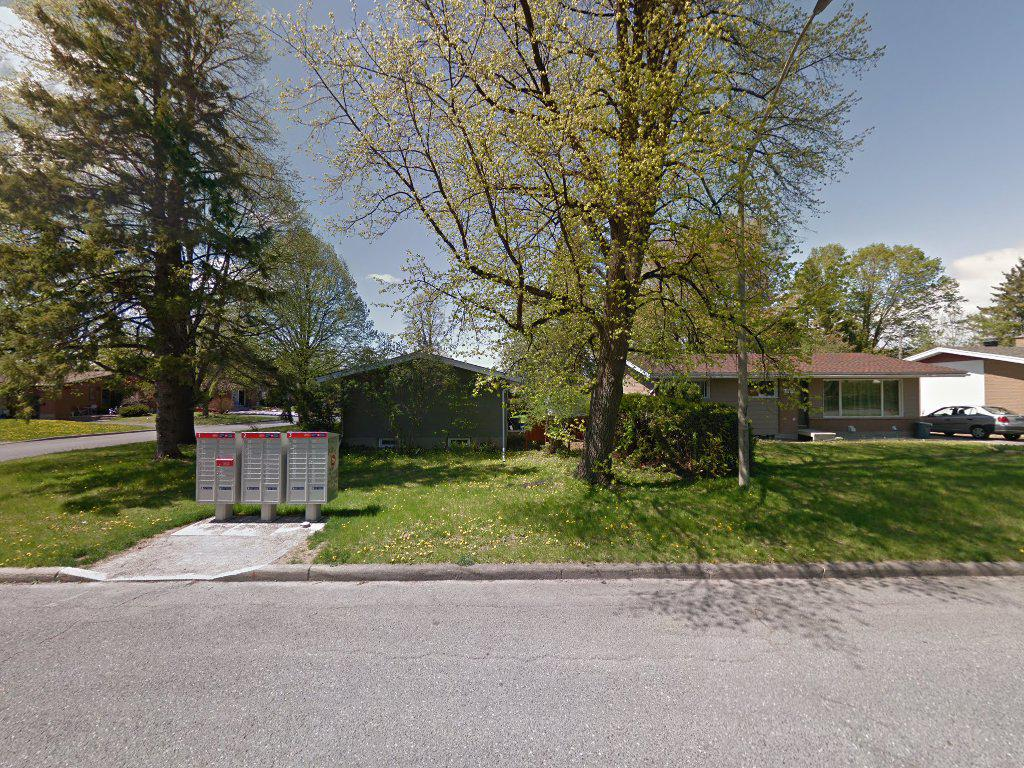trunk: (149, 227, 199, 469), (571, 352, 624, 510), (728, 364, 763, 503)
